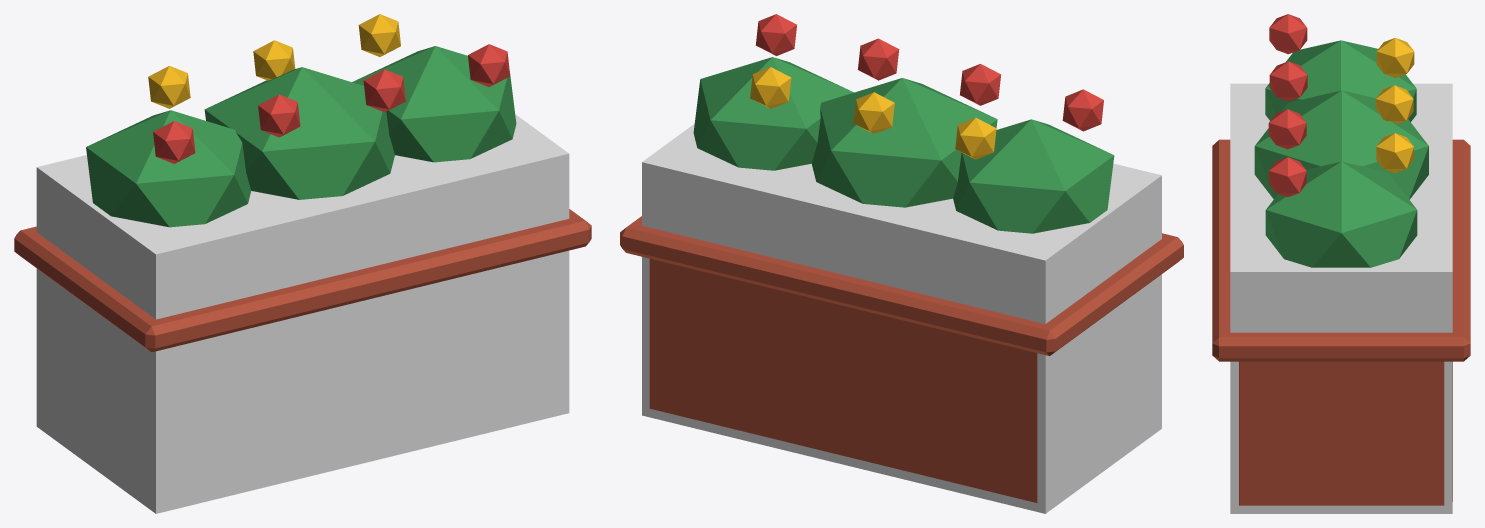
File: prop_planter_a.glb
3 renders of one model, left to right at view 1: azimuth 30°, elevation 25°; view 2: azimuth 150°, elevation 25°; view 3: azimuth 270°, elevation 25°, orthographic. The views are drawn at different scales.
Visible parts, largest first — view 1: COL_prop_planter_a_1, prop_planter_a; view 2: prop_planter_a, COL_prop_planter_a_1; view 3: prop_planter_a, COL_prop_planter_a_1.
Boxes of the visible parts, <box> form: COL_prop_planter_a_1: <box>36,114,569,513</box>; prop_planter_a: <box>14,14,591,352</box>; prop_planter_a: <box>620,14,1183,502</box>; COL_prop_planter_a_1: <box>642,124,1161,513</box>; prop_planter_a: <box>1212,14,1470,505</box>; COL_prop_planter_a_1: <box>1230,83,1452,513</box>.
Bounding box in the file's own units: 1.08 × 0.8303 × 0.58.
